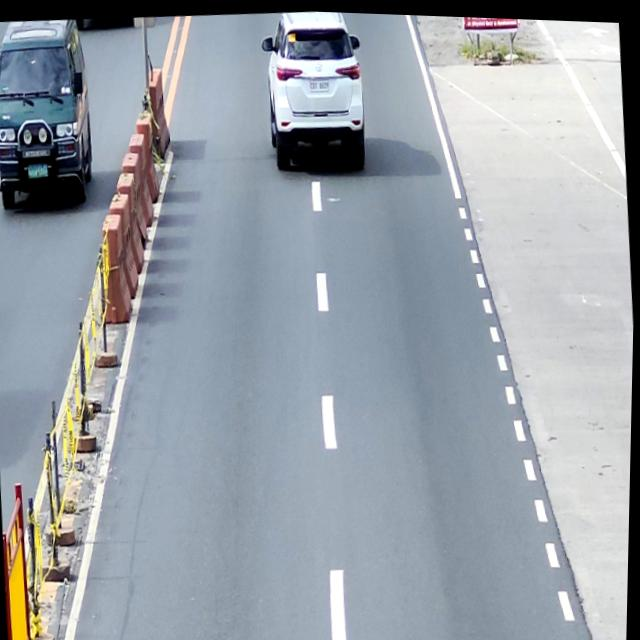Car: (0, 15, 98, 212), (256, 8, 369, 173)
License-Plate: (306, 69, 334, 95), (24, 157, 51, 183)
